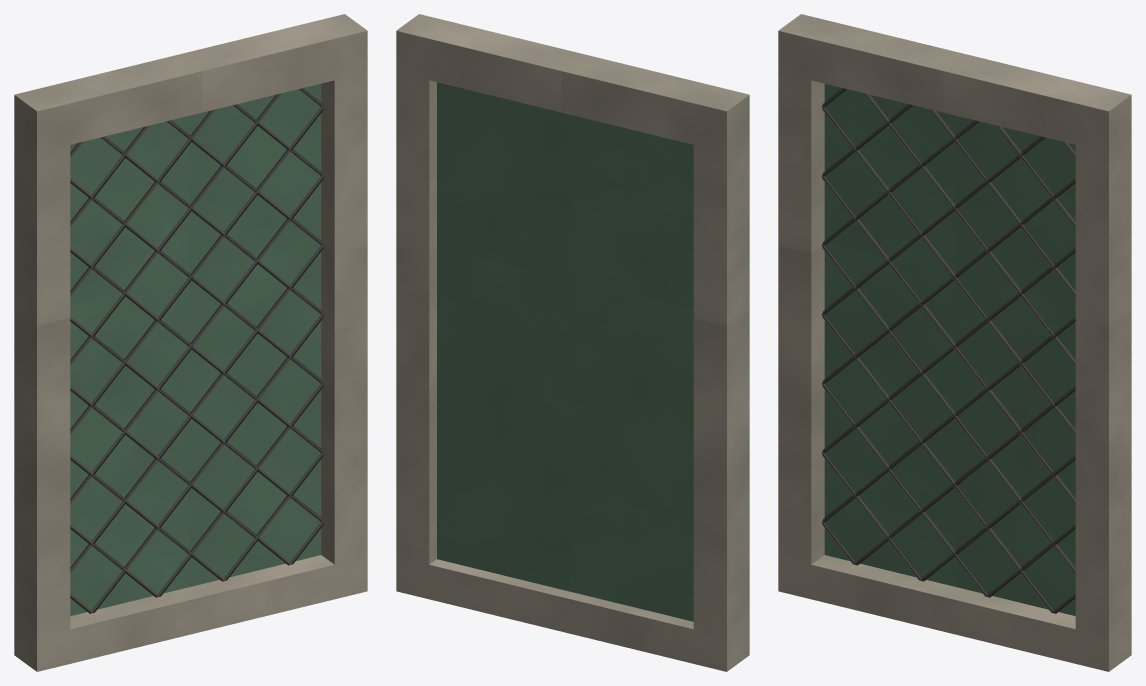
Rendered from Window_Leaded_1.gltf.
3 views of the same model, side by side, from view 1: azimuth 30°, elevation 25°; view 2: azimuth 150°, elevation 25°; view 3: azimuth 330°, elevation 25° (orthographic).
Parts seen in each view (by area): view 1: Window_Leaded_1; view 2: Window_Leaded_1; view 3: Window_Leaded_1.
Boxes of the visible parts, x1,y1,x2,y2 form: Window_Leaded_1: (14,14,367,671); Window_Leaded_1: (396,14,749,671); Window_Leaded_1: (778,14,1131,671).
Size of the model in its own units: 1 by 1.62 by 0.12.
3 materials, 3 textured.
